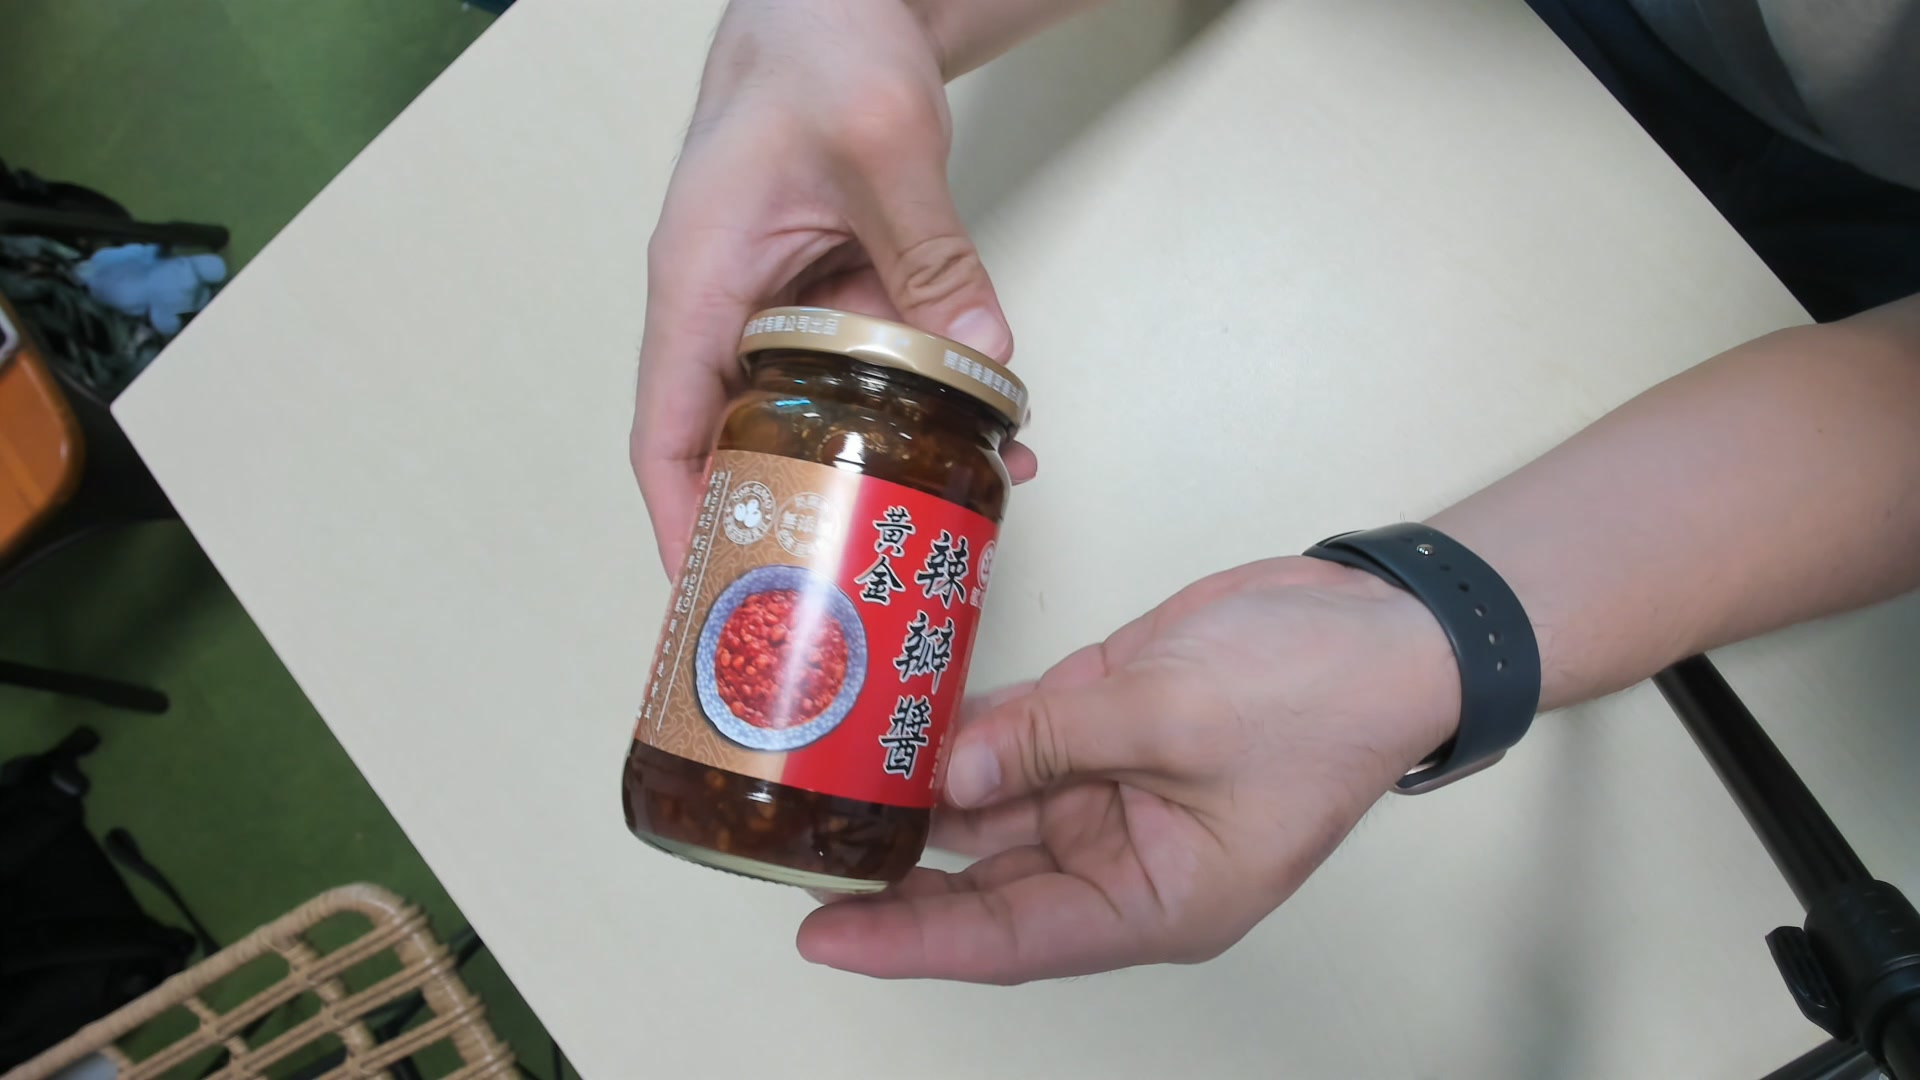OtherSauceDressing_300-399g_NonHalal_NonHealthy: (622, 299, 1036, 889)
